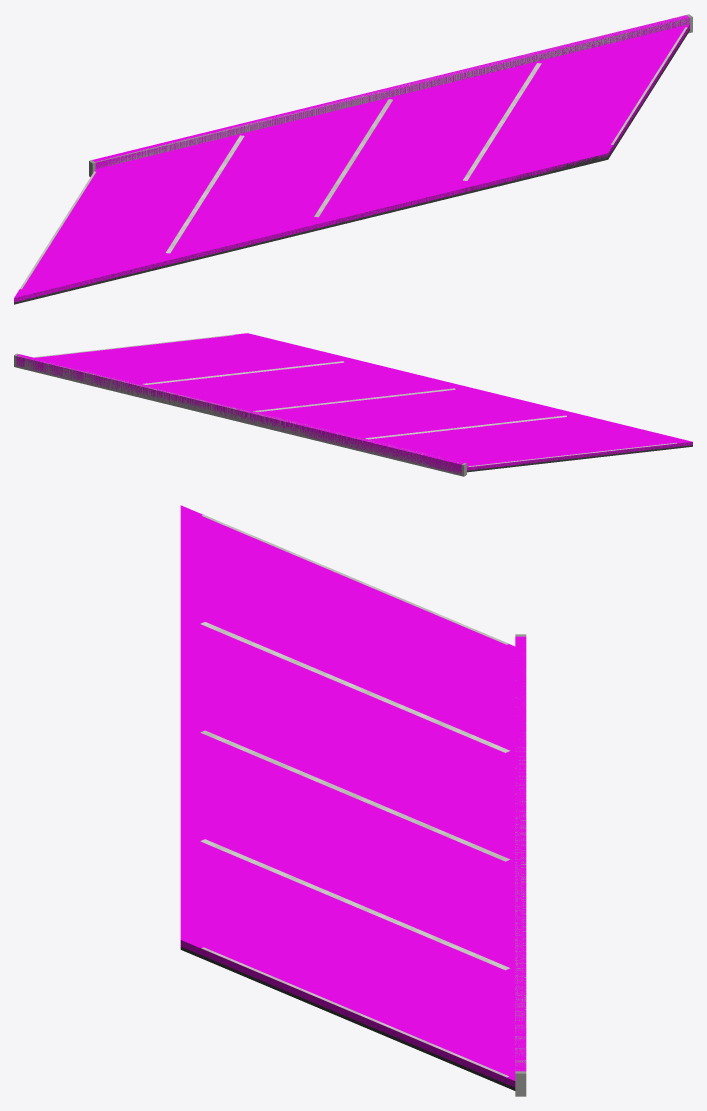
File: EN_Park_Bay_Angle45_4x.fbx
3 renders of one model, top to bottom at view 1: azimuth 30°, elevation 25°; view 2: azimuth 150°, elevation 25°; view 3: azimuth 270°, elevation 25°, orthographic. The views are drawn at different scales.
Visible parts, largest first — view 1: COL_DriveSurface, EN_Park_Bay_Angle45_4x_Mesh, COL_Curb, EN_Park_Bay_Angle45_4x_Markings; view 2: COL_DriveSurface, EN_Park_Bay_Angle45_4x_Mesh, COL_Curb, EN_Park_Bay_Angle45_4x_Markings; view 3: COL_DriveSurface, EN_Park_Bay_Angle45_4x_Markings, COL_Curb, EN_Park_Bay_Angle45_4x_Mesh.
Boxes of the visible parts, x1,y1,x2,y2 form: COL_DriveSurface: (14,24,689,302); EN_Park_Bay_Angle45_4x_Mesh: (14,14,692,304); COL_Curb: (92,15,689,168); EN_Park_Bay_Angle45_4x_Markings: (20,27,687,289); COL_DriveSurface: (35,333,692,470); EN_Park_Bay_Angle45_4x_Mesh: (14,353,692,476); COL_Curb: (16,354,463,473); EN_Park_Bay_Angle45_4x_Markings: (33,334,676,466); COL_DriveSurface: (180,505,515,1087); EN_Park_Bay_Angle45_4x_Markings: (200,515,510,1077); COL_Curb: (515,636,526,1071); EN_Park_Bay_Angle45_4x_Mesh: (180,634,526,1096).
Size of the model in its own units: 18.82 by 0.35 by 4.75.
